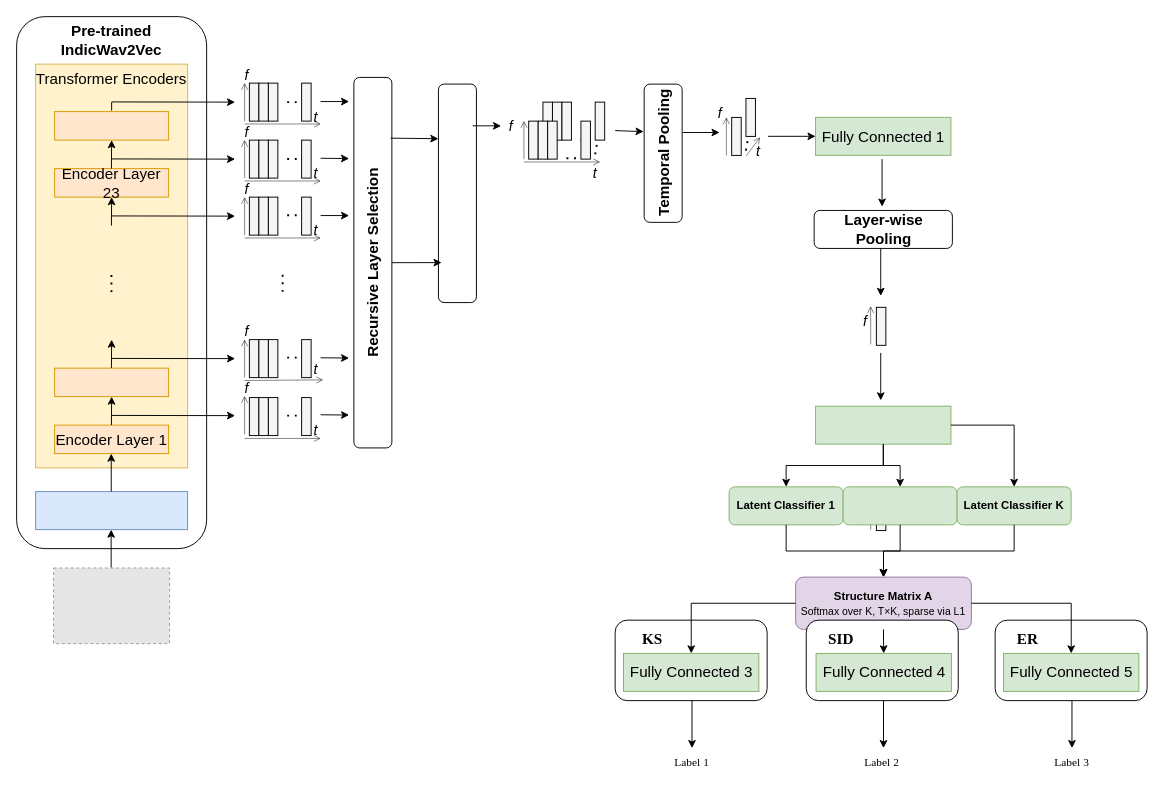
The diagram is 1164 pixels wide and 793 high, and some of its shapes have lost their labels. Grey dashed boxes stand in for pictures. The shapes that lost their labels are listed below. From the top down, each one's box as (x1, y1, x2, y2) in pixels, then its label:
(54, 111, 169, 140): Encoder Layer 24
(437, 83, 476, 303): Layer-wise Concatenation
(54, 367, 169, 397): Encoder Layer 2
(815, 405, 951, 444): Fully Connected 2
(35, 491, 188, 530): CNN Encoders
(842, 486, 957, 525): Latent Classifier 2
